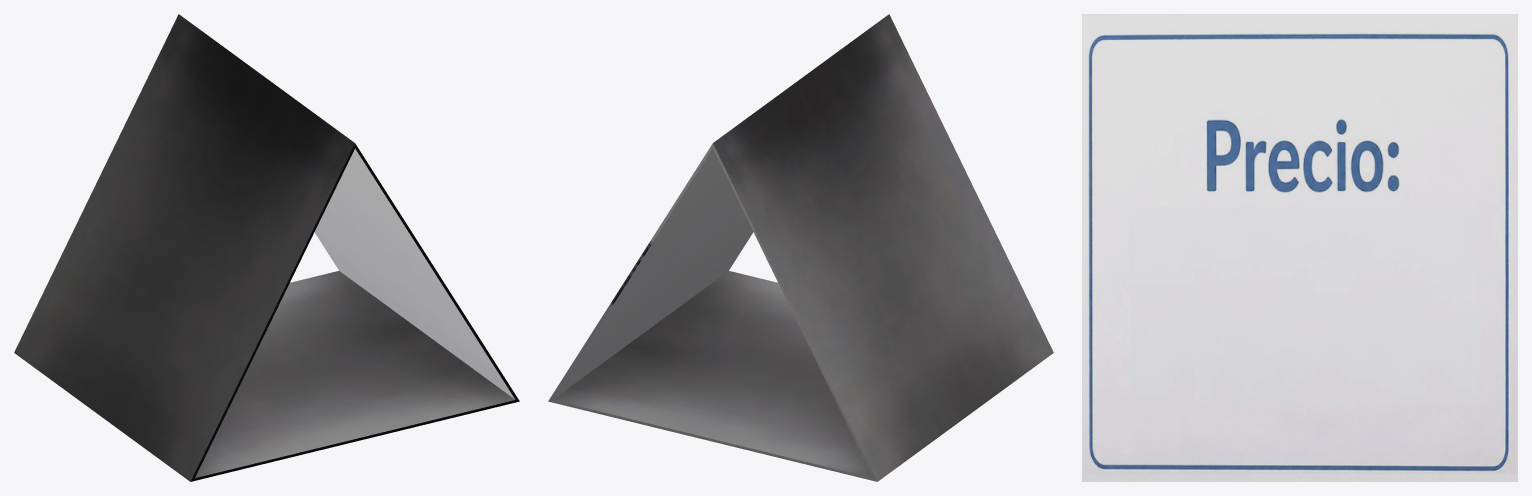
Rendered from tarjeta-precio.glb.
3 renders of one model, left to right at view 1: azimuth 30°, elevation 25°; view 2: azimuth 150°, elevation 25°; view 3: azimuth 270°, elevation 25°, orthographic. The views are drawn at different scales.
Parts seen in each view (by area): view 1: NGon001; view 2: NGon001; view 3: NGon001.
Part boxes in pixels (<box>): NGon001: <box>14,14,519,481</box>; NGon001: <box>548,14,1053,481</box>; NGon001: <box>1082,14,1517,481</box>.
Bounding box in the file's own units: 0.1019 × 0.0883 × 0.0946.
Materials: 1 (1 with a texture image).
